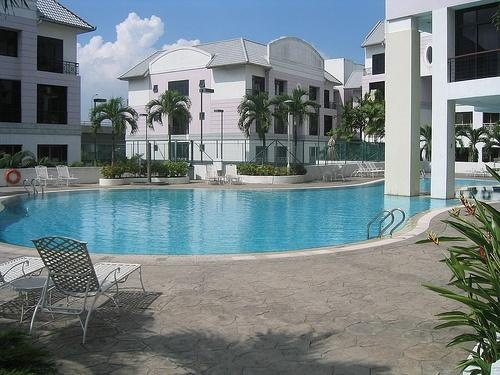pottedplant: (426, 193, 500, 375), (99, 161, 192, 185), (238, 164, 309, 187)
